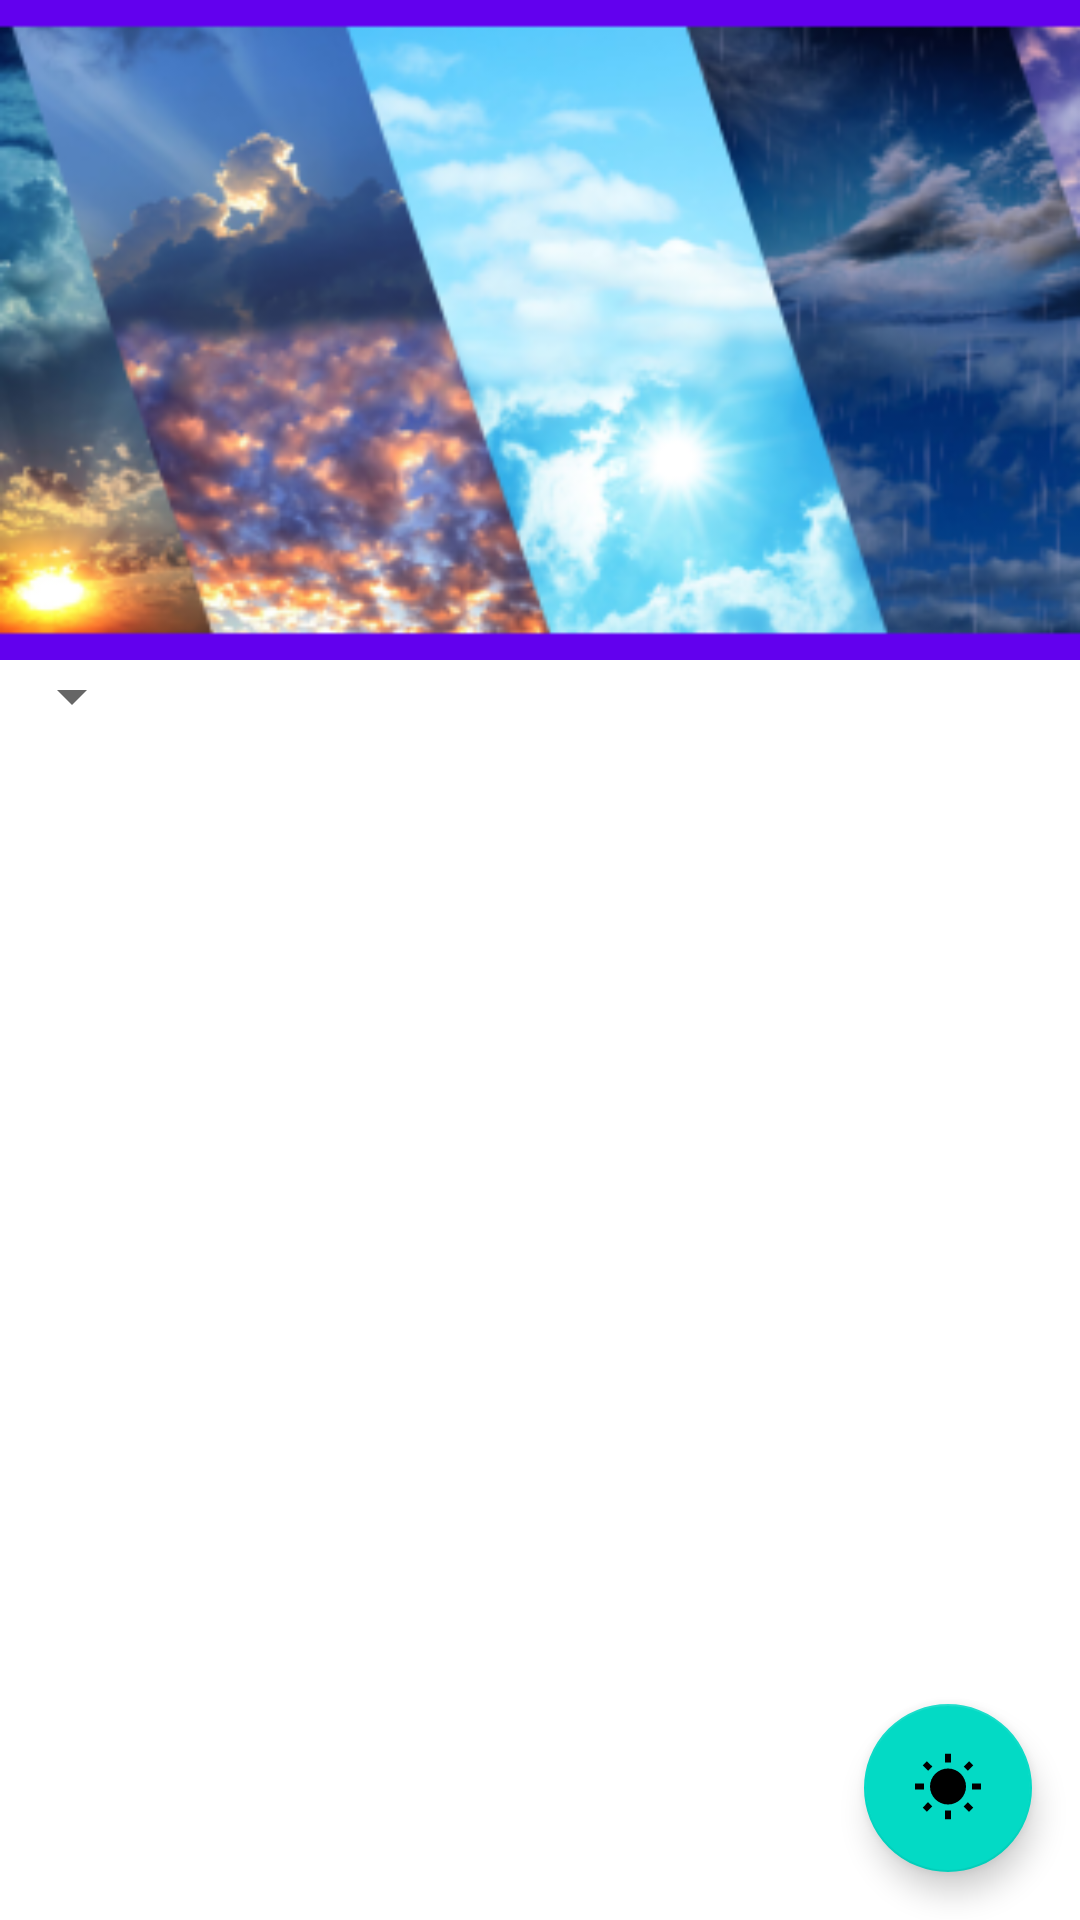

Named icons in this screenshot (1080px x 1920px) and their bounding boxes, (x1, y1, x2, y2):
sunny: (864, 1704, 1032, 1872)
